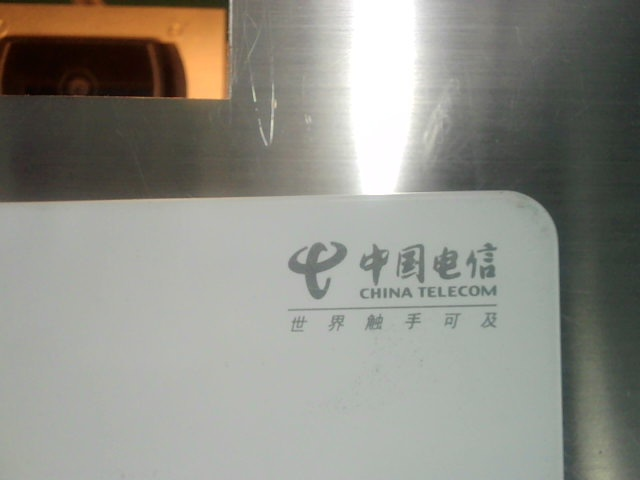AB_ChinaTelecom: (261, 240, 510, 339)
